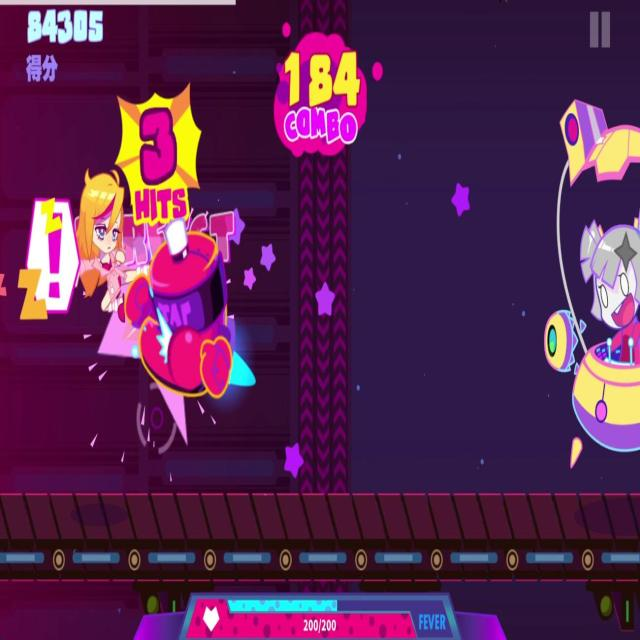qiangboss: (549, 83, 640, 465)
tapboss: (138, 209, 262, 403)
